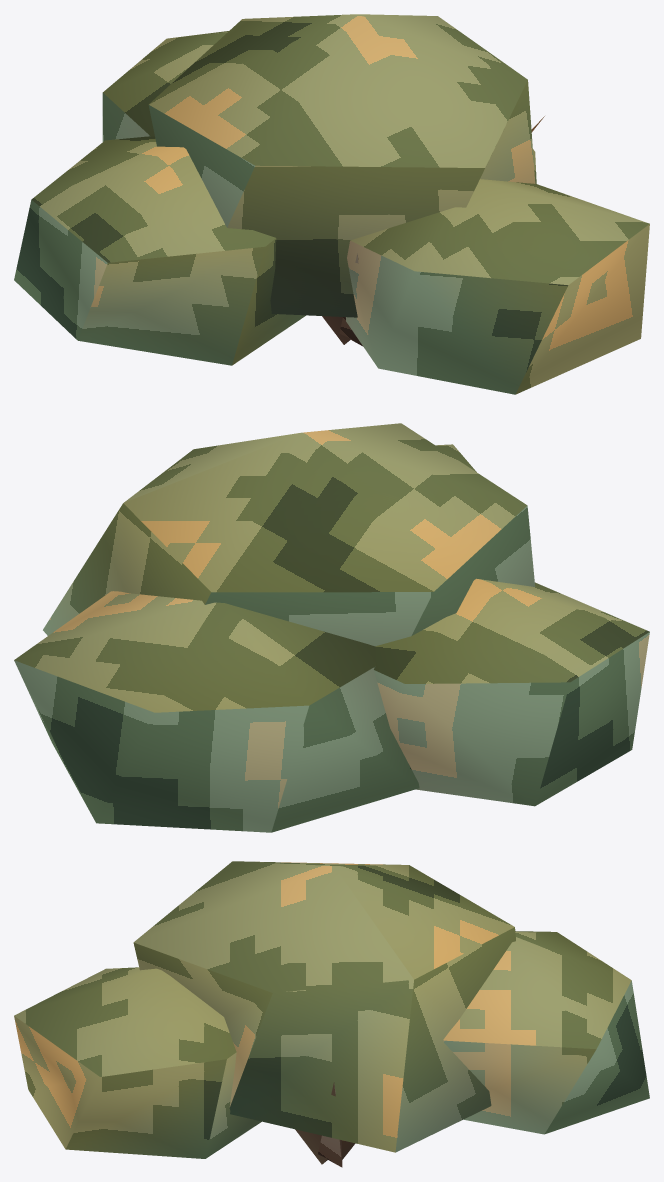
File: wland.scrub.glb
The picture shows the model from 3 angles, top to bottom: view 1: azimuth 30°, elevation 25°; view 2: azimuth 150°, elevation 25°; view 3: azimuth 270°, elevation 25°; orthographic projection. The views are drawn at different scales.
Visible parts, largest first — view 1: kit_foliage, kit_stems; view 2: kit_foliage; view 3: kit_foliage, kit_stems.
Boxes of the visible parts, bbox=[...] form: kit_foliage: bbox=[14, 14, 649, 394]; kit_stems: bbox=[322, 116, 544, 346]; kit_foliage: bbox=[14, 423, 649, 832]; kit_foliage: bbox=[14, 861, 649, 1158]; kit_stems: bbox=[295, 1082, 355, 1167].
Size of the model in its own units: 0.972 by 0.6024 by 1.17.
Materials: 2 (2 with a texture image).
